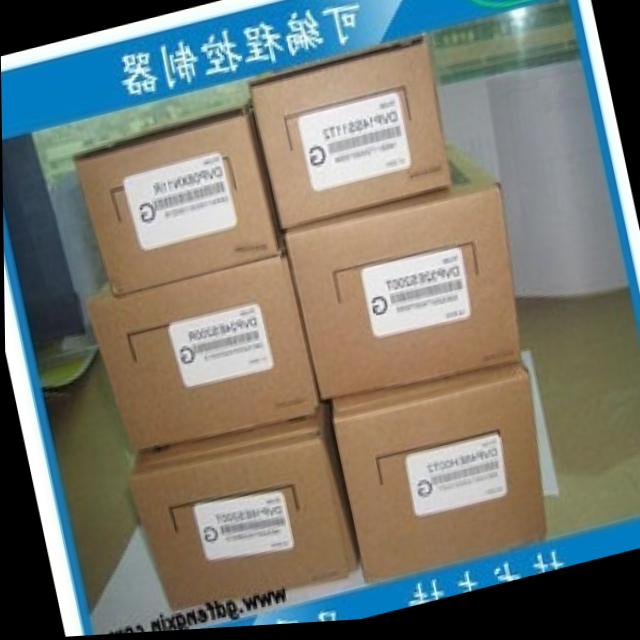box: (283, 145, 521, 405), (126, 400, 358, 612), (329, 369, 545, 588), (88, 257, 318, 453), (71, 101, 280, 297), (247, 40, 452, 232)
